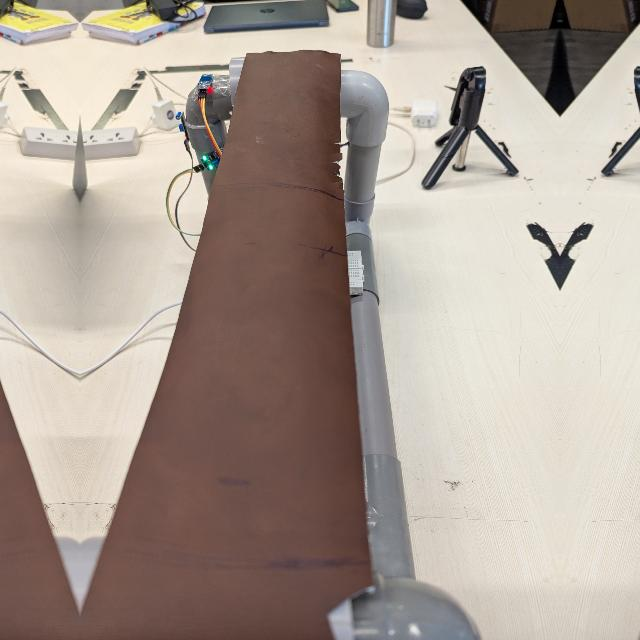belt_tear: (321, 573, 375, 640)
edge_damage: (318, 129, 350, 204)
